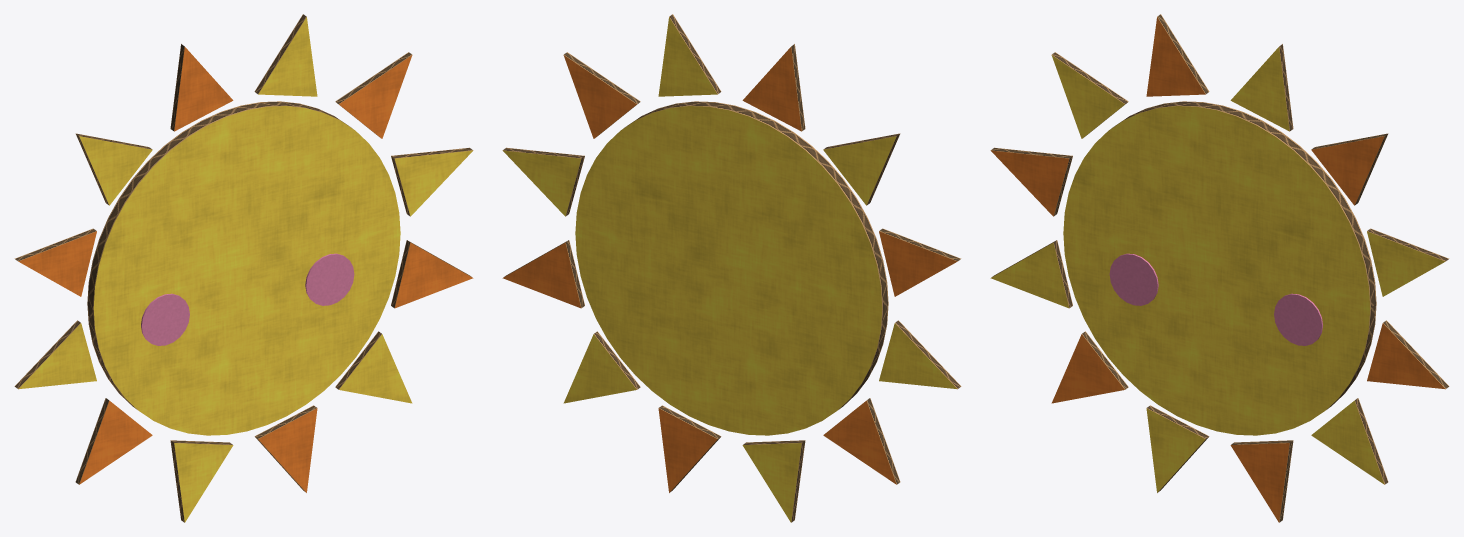
File: goal_sun.gltf
3 views of the same model, side by side, from view 1: azimuth 30°, elevation 25°; view 2: azimuth 150°, elevation 25°; view 3: azimuth 330°, elevation 25° (orthographic).
Parts seen in each view (by area): view 1: goal_sun; view 2: goal_sun; view 3: goal_sun.
Boxes of the visible parts, box(x1,y1,x2,y2) form: goal_sun: box(14, 14, 473, 522); goal_sun: box(502, 14, 961, 522); goal_sun: box(990, 14, 1449, 522).
Size of the model in its own units: 4.15 by 4.15 by 0.115.
4 materials, 4 textured.
